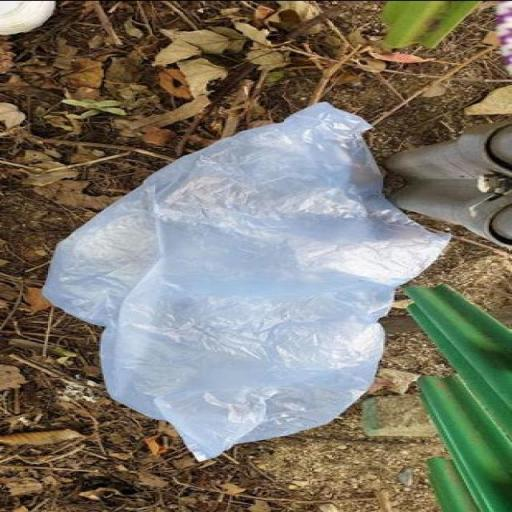plastic-bag: (32, 100, 453, 464)
